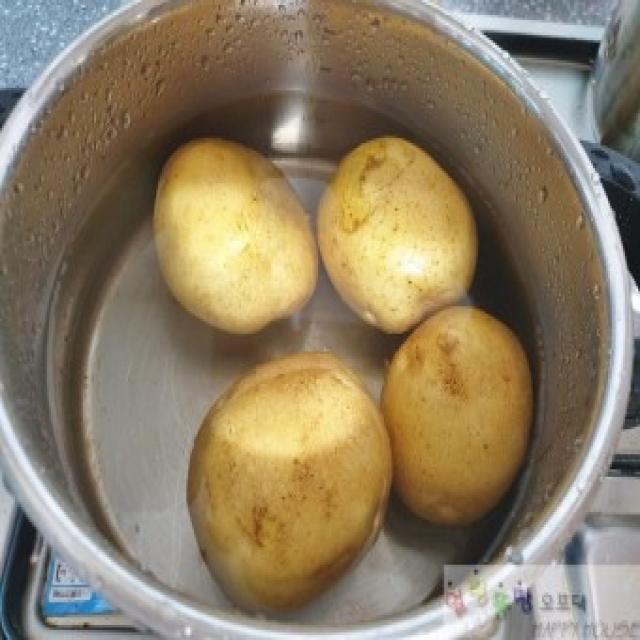potato: (188, 348, 398, 614), (379, 300, 537, 528), (317, 134, 491, 338), (152, 128, 322, 333)
